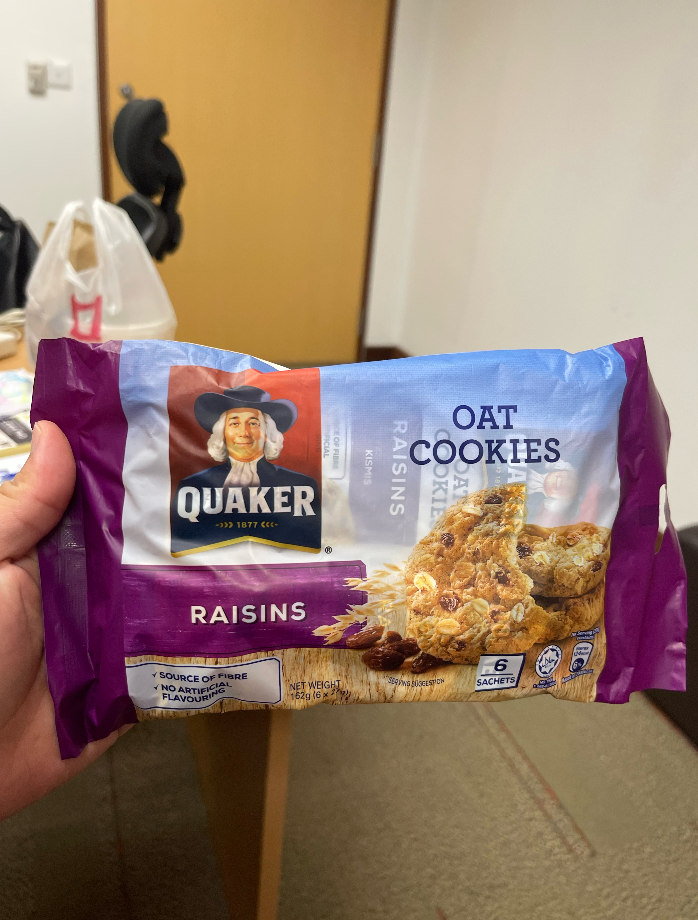cookies_100g-199g: (68, 368, 618, 699)
